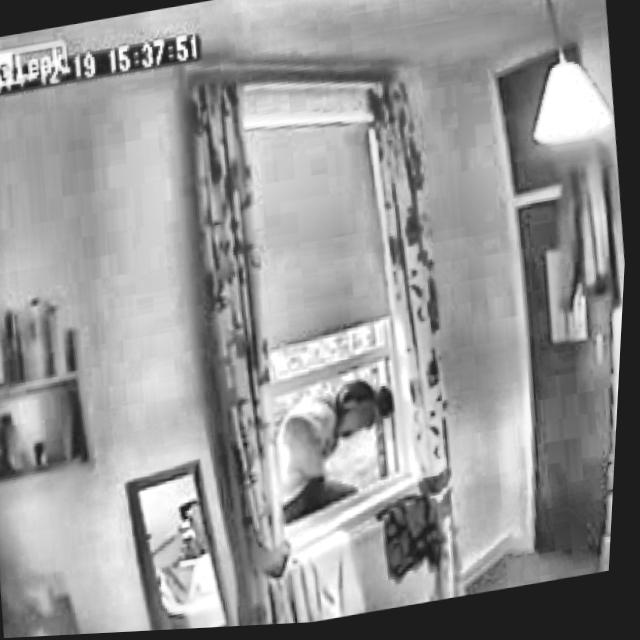burglary: (250, 313, 431, 567)
